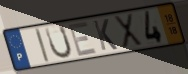4: (145, 10, 164, 46)
E: (67, 20, 99, 58)
I: (33, 26, 51, 64)
K: (92, 18, 119, 52)
U: (43, 24, 73, 61)
X: (112, 12, 144, 49)
